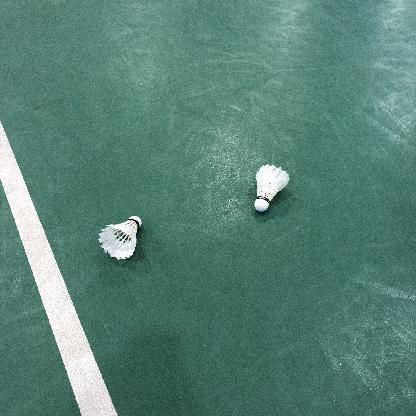ball_single: (98, 216, 142, 260), (254, 164, 290, 212)
